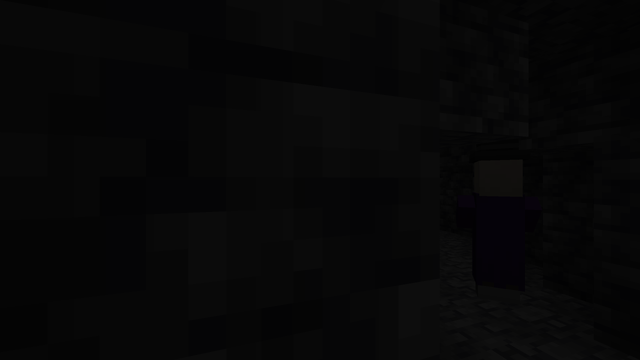sorcieres: (461, 153, 534, 311)
